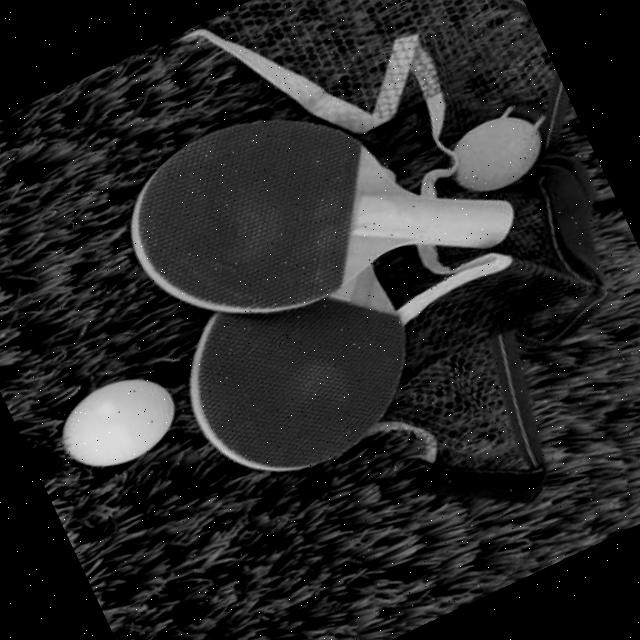ping-pong-ball: (44, 356, 196, 490), (436, 98, 560, 210)
